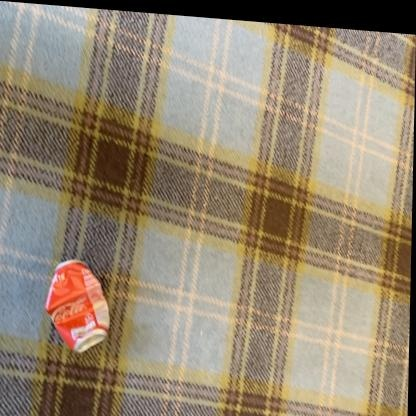trash: (45, 260, 109, 352)
